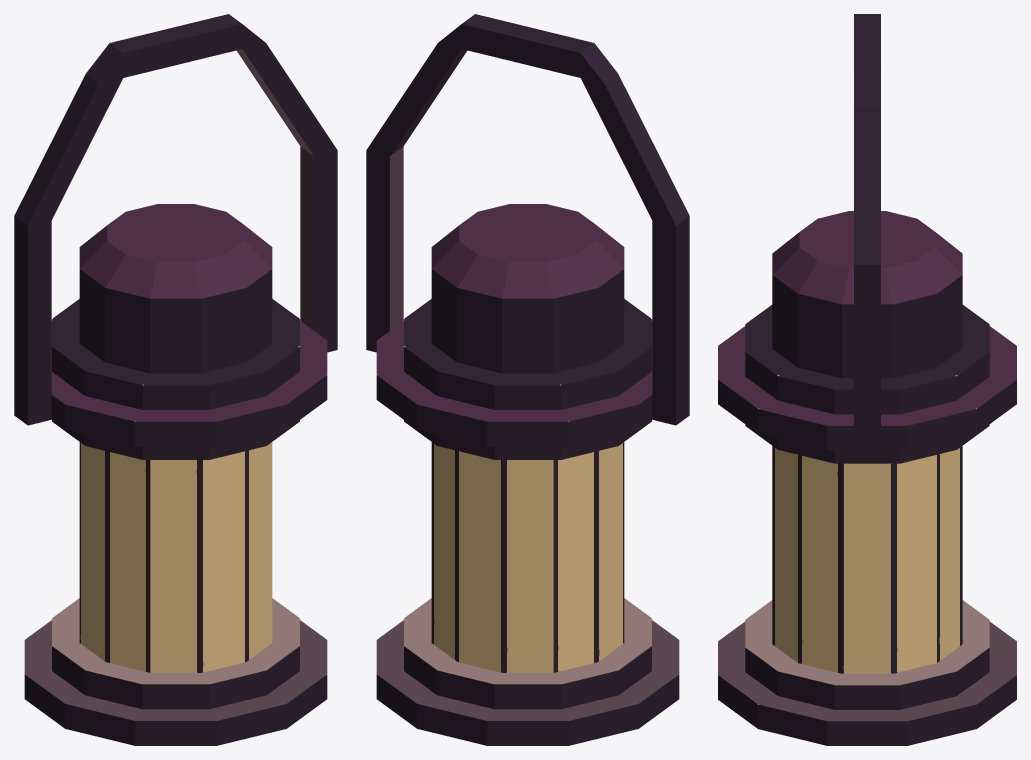
Rendered from Lanter.glb.
3 views of the same model, side by side, from view 1: azimuth 30°, elevation 25°; view 2: azimuth 150°, elevation 25°; view 3: azimuth 270°, elevation 25° (orthographic).
Parts seen in each view (by area): view 1: Base (×7), cuboid (×3); view 2: Base (×7), cuboid (×3); view 3: Base (×7), cuboid (×2).
Boxes of the visible parts, bbox=[...] form: Base (×7): bbox=[24, 204, 327, 745]; cuboid (×3): bbox=[14, 14, 337, 425]; Base (×7): bbox=[376, 204, 679, 745]; cuboid (×3): bbox=[366, 14, 689, 425]; Base (×7): bbox=[718, 211, 1016, 745]; cuboid (×2): bbox=[854, 14, 880, 461].
Size of the model in its own units: 0.8125 by 1.62 by 0.6875.
Materials: 1 (1 with a texture image).
